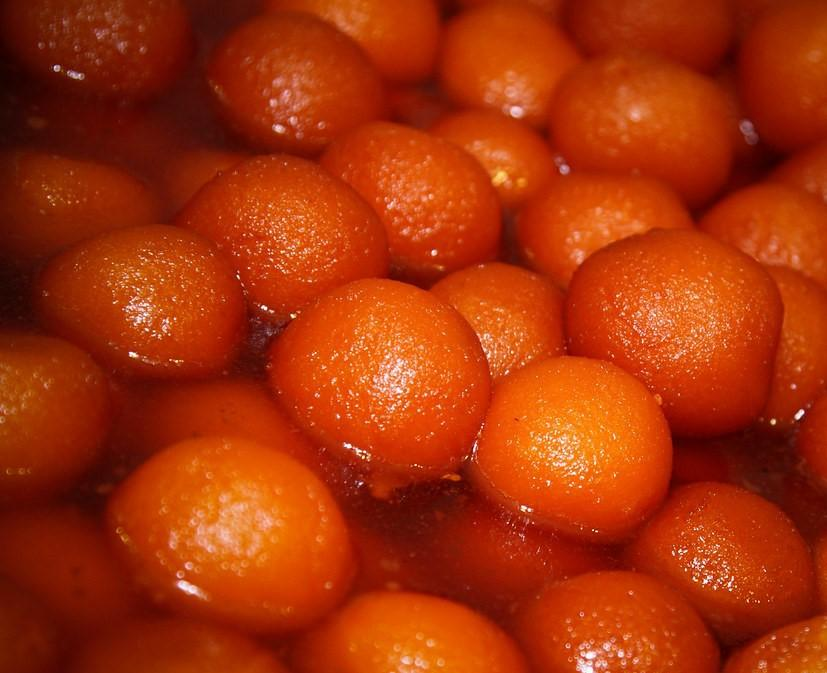GulabJamun: (102, 425, 359, 635), (269, 265, 484, 502), (569, 223, 785, 440), (467, 360, 675, 538), (37, 227, 254, 378), (194, 150, 385, 308), (196, 7, 399, 155), (555, 47, 736, 208), (637, 472, 827, 620), (0, 0, 201, 125), (512, 163, 714, 287), (336, 125, 502, 263), (0, 144, 167, 281), (417, 258, 589, 375), (536, 563, 717, 673), (306, 588, 539, 673), (440, 0, 590, 125), (0, 506, 139, 638), (258, 3, 444, 98), (0, 318, 100, 487), (425, 106, 559, 226), (732, 0, 827, 160), (556, 0, 742, 77), (702, 183, 827, 295), (434, 512, 591, 600), (76, 620, 282, 673), (722, 620, 827, 673)
